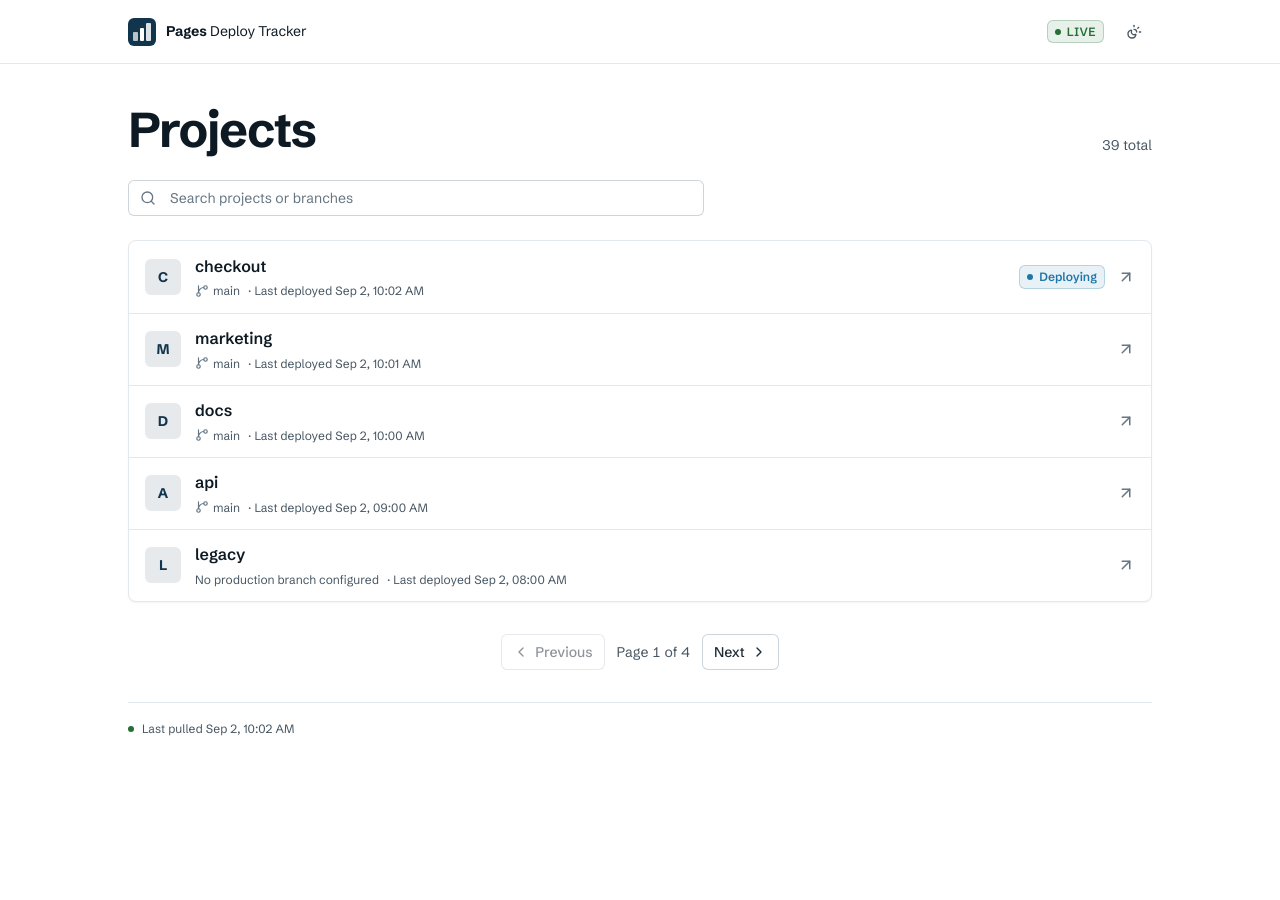
dashboard › navigates between project pages and updates the URL
The image size is (1280, 900).
Expected: the text "checkout" is shown, [195, 256, 266, 276]
Click the button with aria-label "Next project page": {"x": 740, "y": 652} [702, 634, 779, 670]
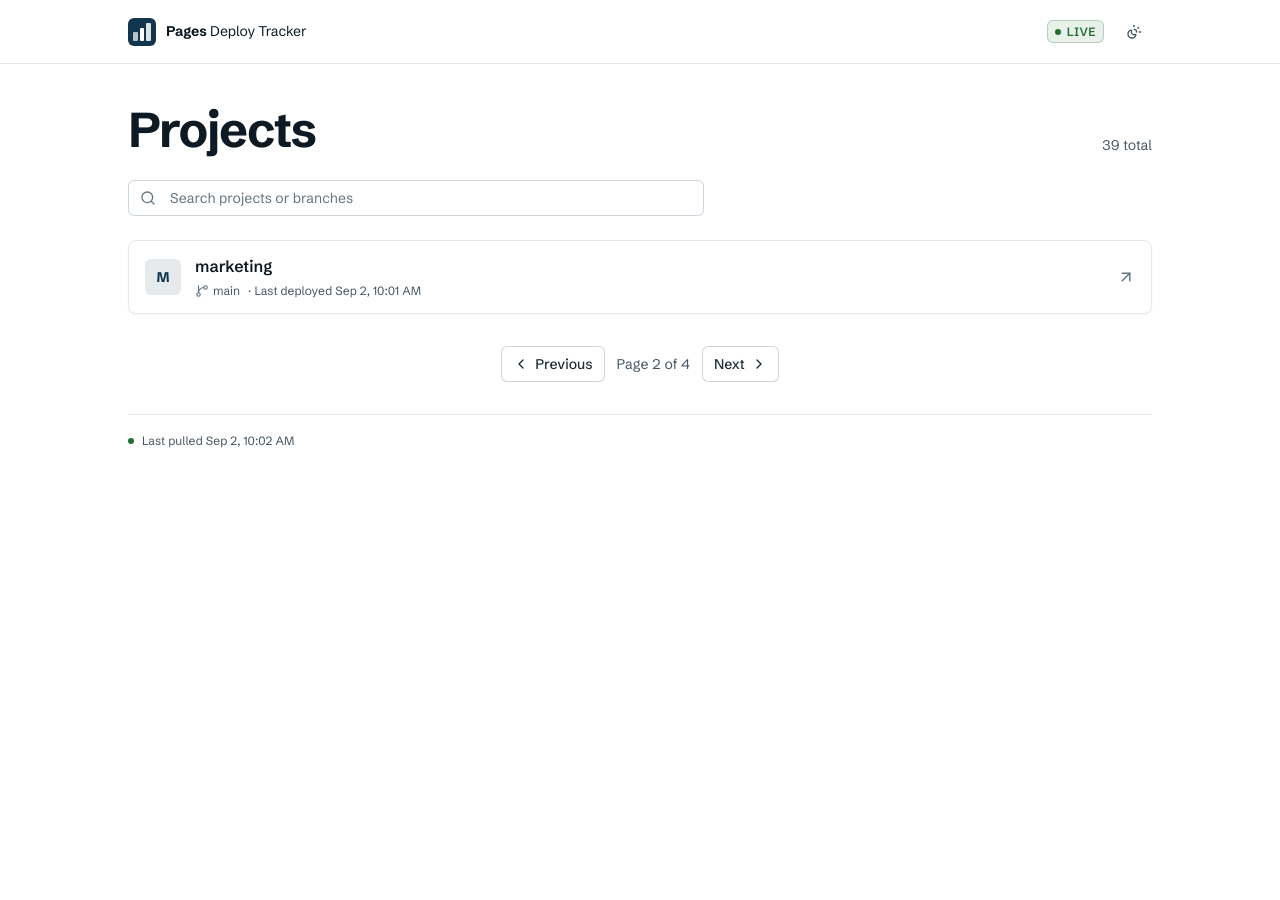
Expected: the text "marketing" is shown, [195, 256, 272, 276]
Expected: the text "Page 2 of 4" is shown, [617, 353, 690, 375]
